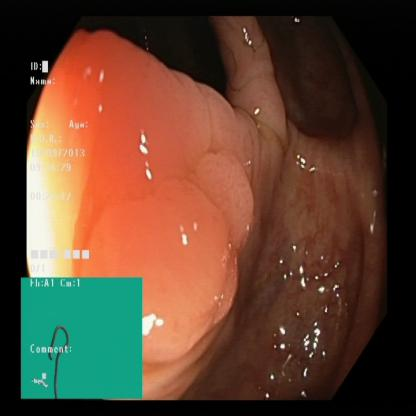Labels: (20, 277, 142, 398), (29, 58, 94, 275)
Polyps: (98, 214, 227, 346)
